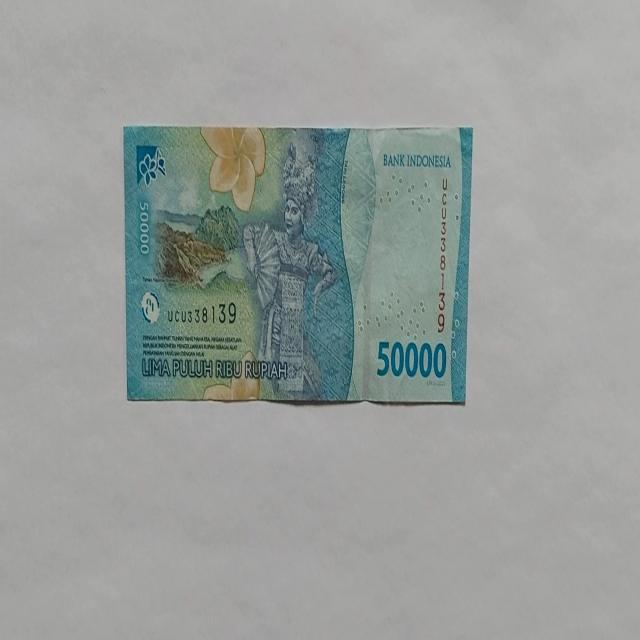lima puluh ribu rupiah: (122, 124, 474, 406)
